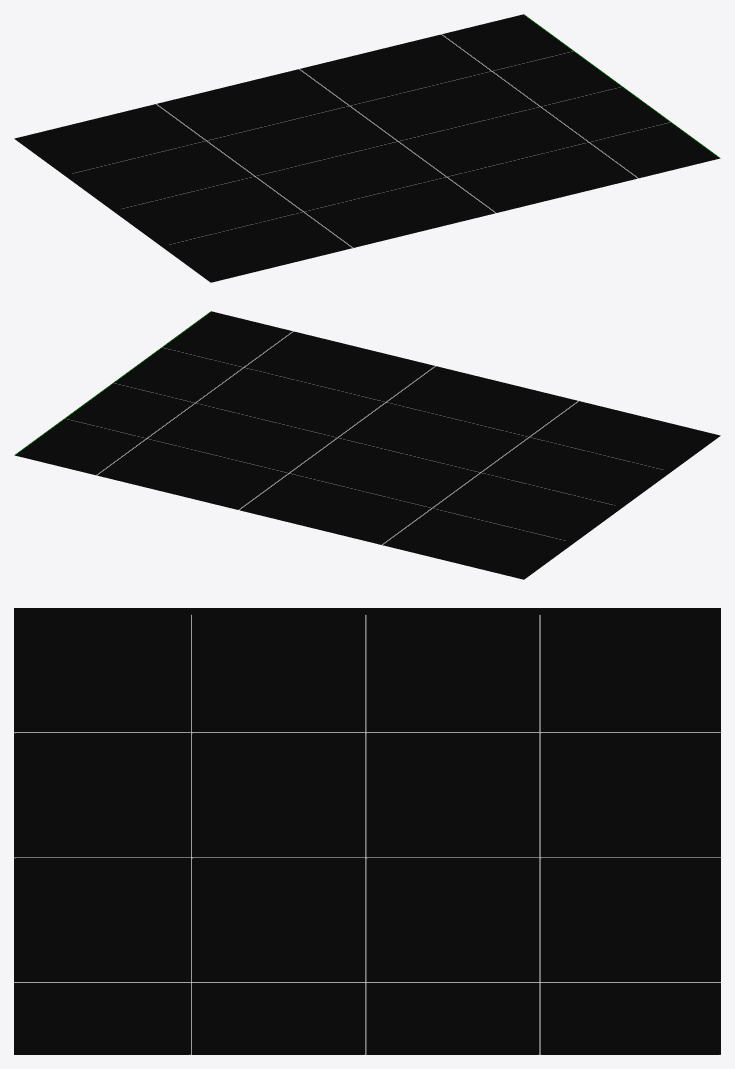
File: lantai.FBX
3 renders of one model, top to bottom at view 1: azimuth 30°, elevation 25°; view 2: azimuth 150°, elevation 25°; view 3: azimuth 270°, elevation 25°, orthographic. The views are drawn at different scales.
Visible parts, largest first — view 1: lantai; view 2: lantai; view 3: lantai.
Boxes of the visible parts, <box> form: lantai: <box>14,14,720,282</box>; lantai: <box>14,311,720,579</box>; lantai: <box>14,608,720,1054</box>.
Bounding box in the file's own units: 288 × 5.77e-05 × 192.
